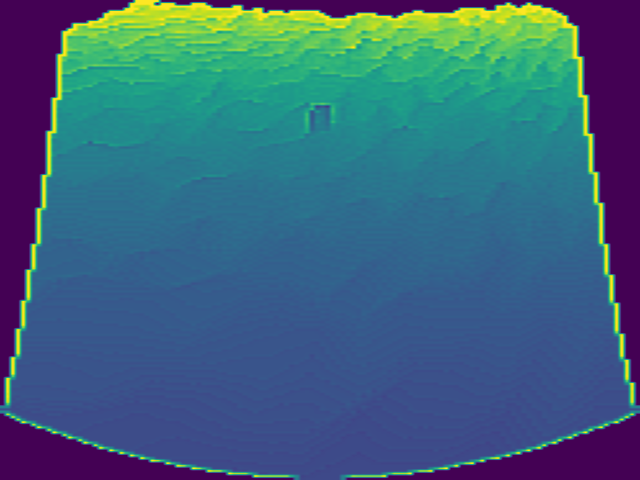car_0198: (307, 104, 330, 136)
